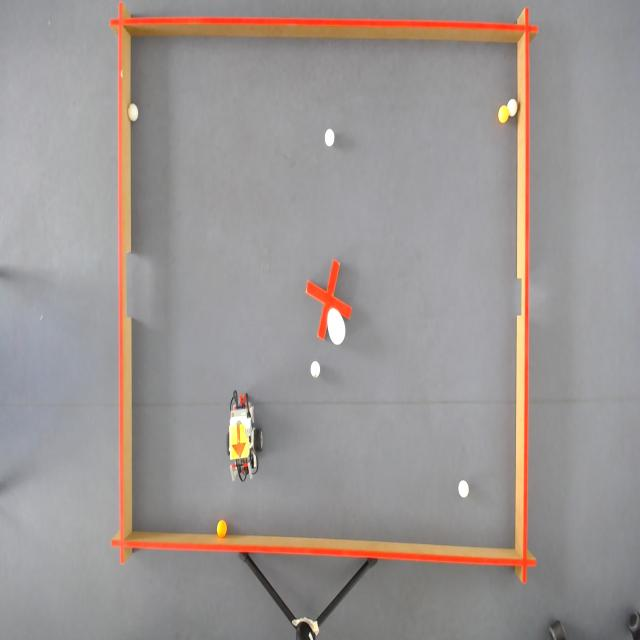cross: (305, 258, 352, 342)
egg: (325, 305, 347, 347)
orange_ball: (498, 103, 510, 126), (216, 516, 228, 539)
robot: (229, 420, 250, 459)
white_ball: (127, 101, 140, 124), (309, 359, 322, 381), (457, 478, 470, 500), (323, 126, 336, 148), (507, 97, 519, 119)
